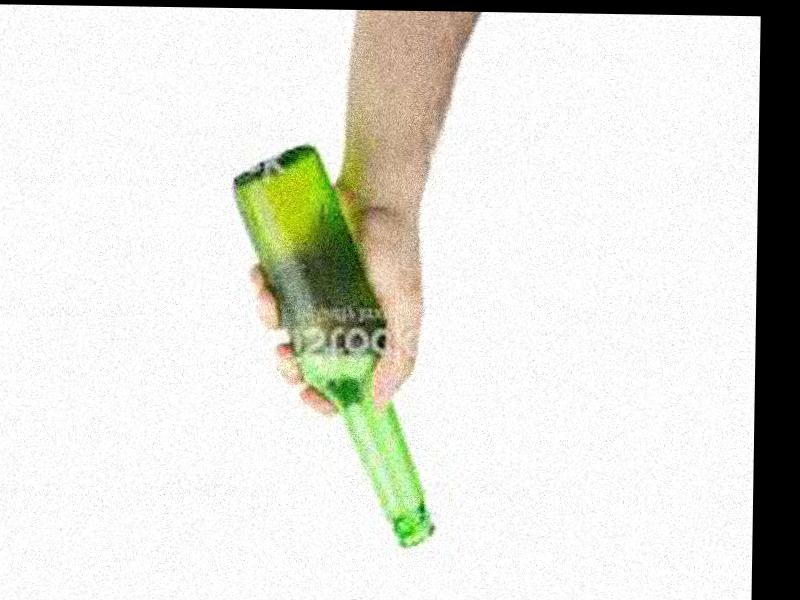Beer: (226, 148, 441, 551)
